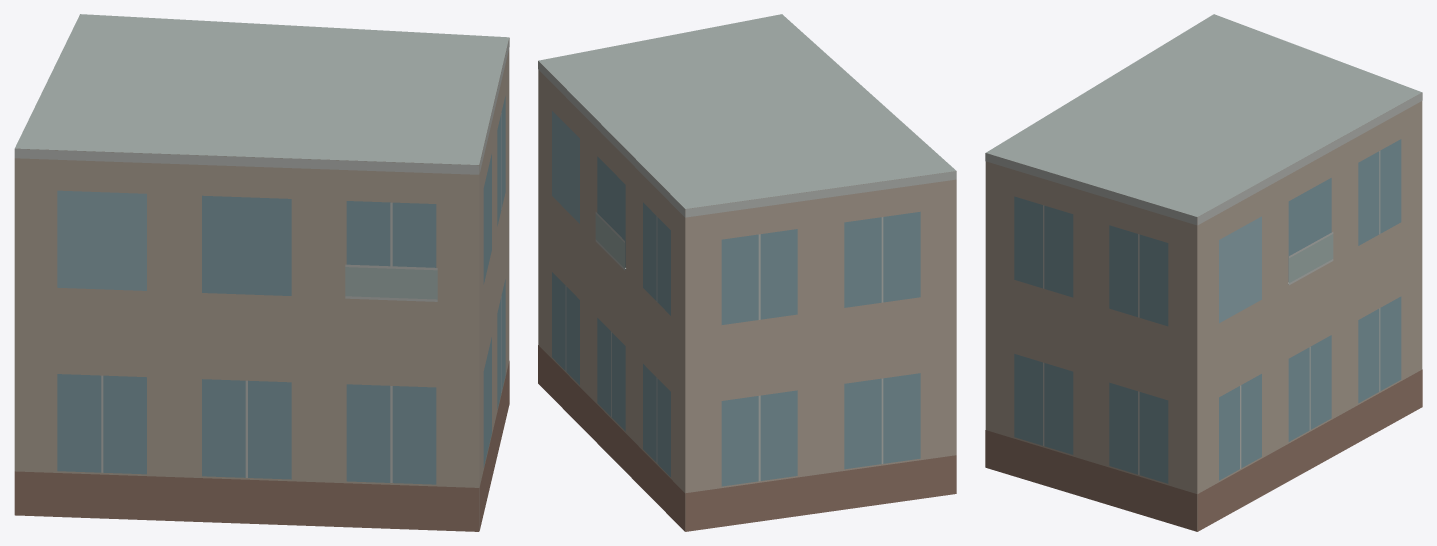
The model's file is survey-upis-32767477.glb.
The picture shows the model from 3 angles, left to right: view 1: azimuth 30°, elevation 25°; view 2: azimuth 150°, elevation 25°; view 3: azimuth 270°, elevation 25°; orthographic projection. The views are drawn at different scales.
Parts seen in each view (by area): view 1: survey-upis-32767477.tmp; view 2: survey-upis-32767477.tmp; view 3: survey-upis-32767477.tmp.
Boxes of the visible parts, x1=… form: survey-upis-32767477.tmp: x1=14, y1=14, x2=509, y2=531; survey-upis-32767477.tmp: x1=538, y1=14, x2=956, y2=531; survey-upis-32767477.tmp: x1=985, y1=14, x2=1422, y2=531.
Size of the model in its own units: 12.74 by 9.2 by 11.58.
